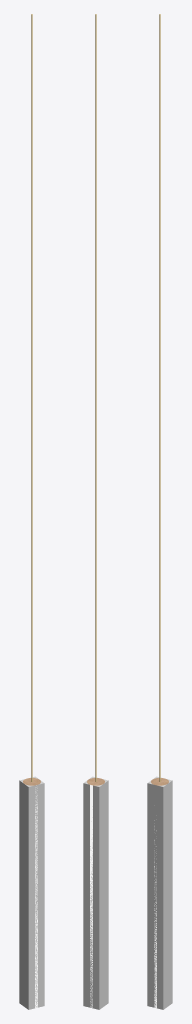
File: ExRo_Long_Light.gltf
3 views of the same model, side by side, from view 1: azimuth 30°, elevation 25°; view 2: azimuth 150°, elevation 25°; view 3: azimuth 330°, elevation 25° (orthographic).
Visible parts, largest first — view 1: ExRo_Long_Light_Glow_bcol, ExRo_Long_Light_Cord, ExRo_Long_Light_Glow; view 2: ExRo_Long_Light_Glow_bcol, ExRo_Long_Light_Cord, ExRo_Long_Light_Glow; view 3: ExRo_Long_Light_Glow_bcol, ExRo_Long_Light_Cord, ExRo_Long_Light_Glow.
Boxes of the visible parts, x1,y1,x2,y2 form: ExRo_Long_Light_Glow_bcol: (19, 776, 44, 1009); ExRo_Long_Light_Cord: (23, 14, 40, 785); ExRo_Long_Light_Glow: (35, 785, 37, 1008); ExRo_Long_Light_Glow_bcol: (83, 776, 108, 1009); ExRo_Long_Light_Cord: (87, 14, 104, 785); ExRo_Long_Light_Glow: (90, 785, 92, 1007); ExRo_Long_Light_Glow_bcol: (147, 776, 172, 1009); ExRo_Long_Light_Cord: (151, 14, 168, 785); ExRo_Long_Light_Glow: (154, 820, 156, 1008).
Bounding box in the file's own units: 0.09 × 5.33 × 0.0886.
Materials: 2 (1 with a texture image).
